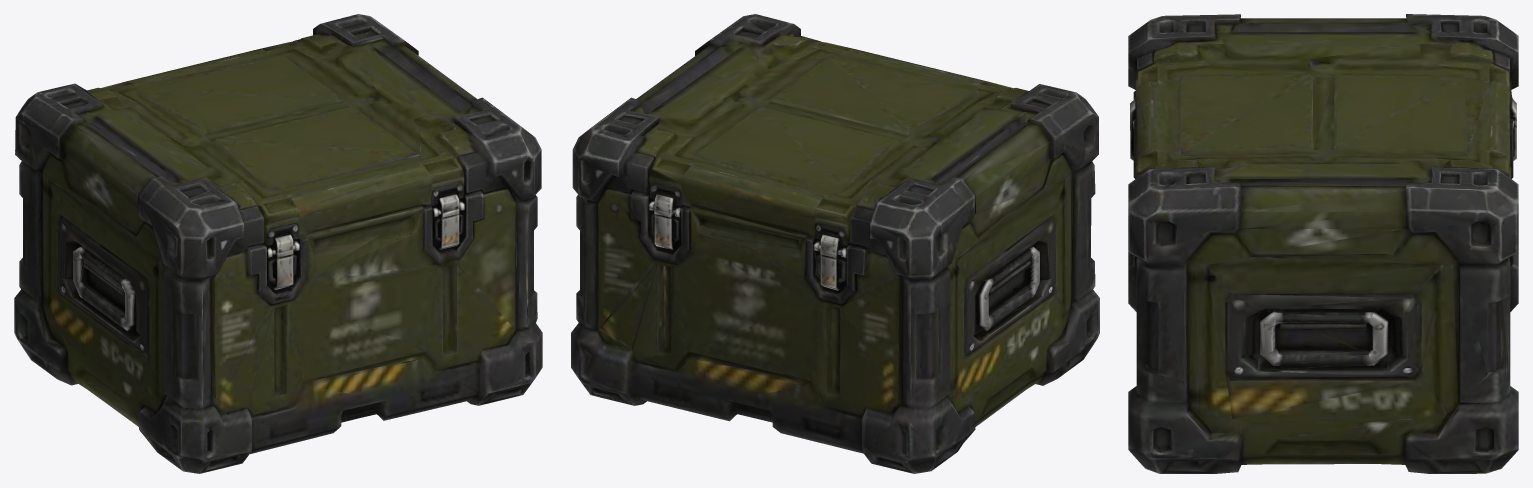
File: crate.glb
The picture shows the model from 3 angles, left to right: view 1: azimuth 30°, elevation 25°; view 2: azimuth 150°, elevation 25°; view 3: azimuth 270°, elevation 25°; orthographic projection. The views are drawn at different scales.
Visible parts, largest first — view 1: geometry_0; view 2: geometry_0; view 3: geometry_0.
Boxes of the visible parts, box(x1,y1,x2,y2) form: geometry_0: box(14, 14, 542, 473); geometry_0: box(571, 14, 1099, 473); geometry_0: box(1128, 14, 1518, 473).
Size of the model in its own units: 0.9565 by 0.6689 by 0.8355.
Materials: 1 (1 with a texture image).
